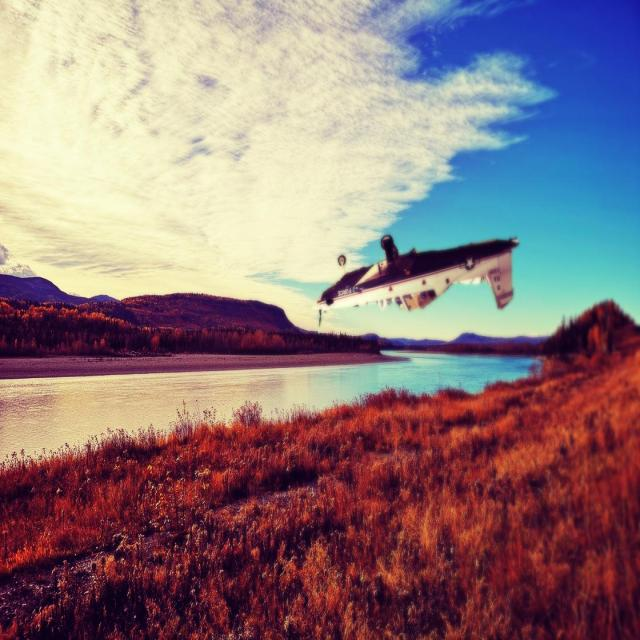airplane: (317, 234, 519, 312)
